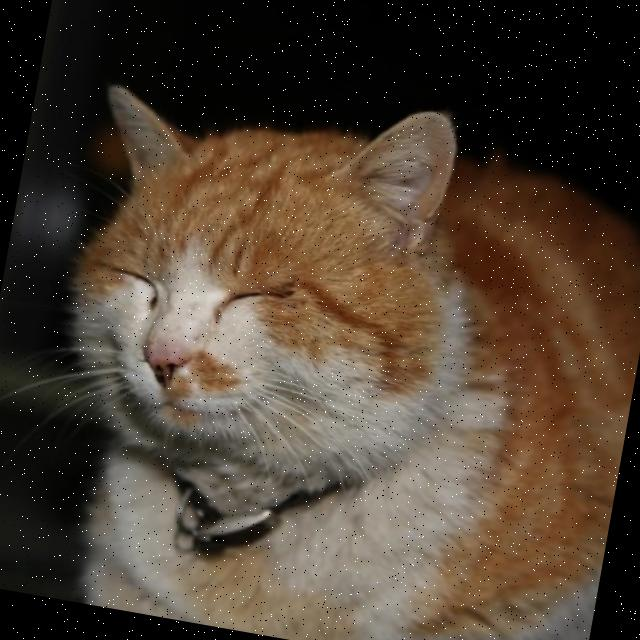Happy: (44, 199, 355, 486)
